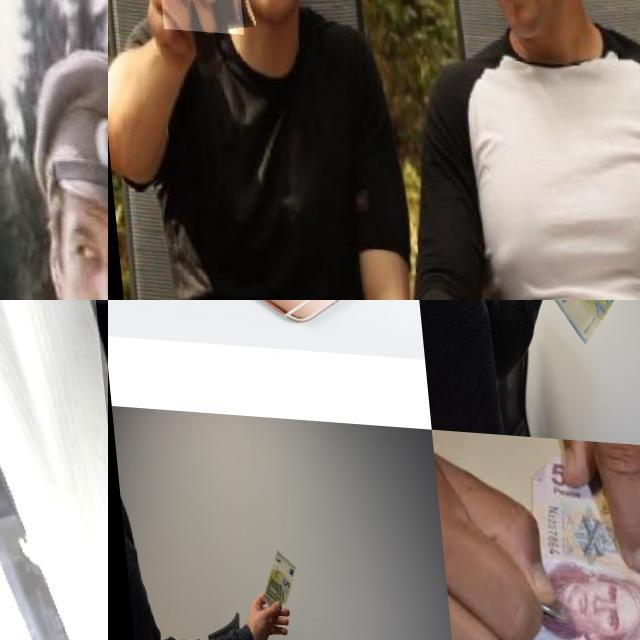-: (0, 300, 108, 640), (140, 0, 238, 119)
